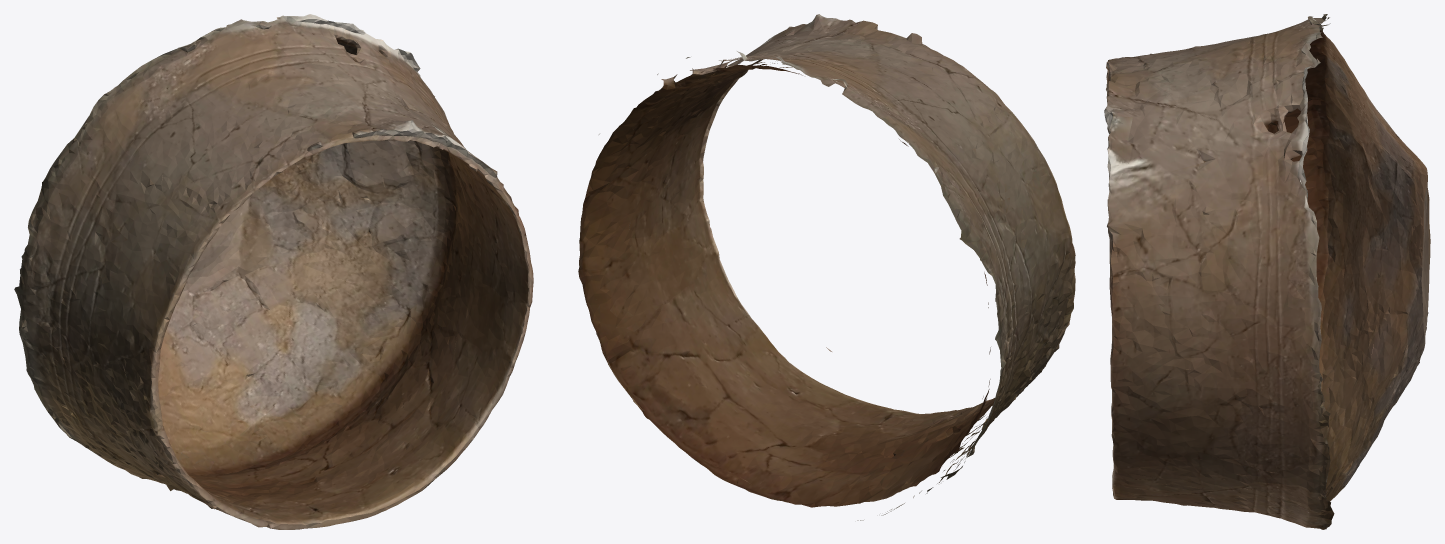
Rendered from clay_bowl.glb.
The picture shows the model from 3 angles, left to right: view 1: azimuth 30°, elevation 25°; view 2: azimuth 150°, elevation 25°; view 3: azimuth 270°, elevation 25°; orthographic projection. The views are drawn at different scales.
Visible parts, largest first — view 1: default; view 2: default; view 3: default.
Part boxes in pixels (x1=…): default: x1=14, y1=14, x2=533, y2=529; default: x1=578, y1=14, x2=1075, y2=520; default: x1=1104, y1=14, x2=1430, y2=529.
Bounding box in the file's own units: 24.85 × 24.38 × 15.47.
1 material, 1 textured.
